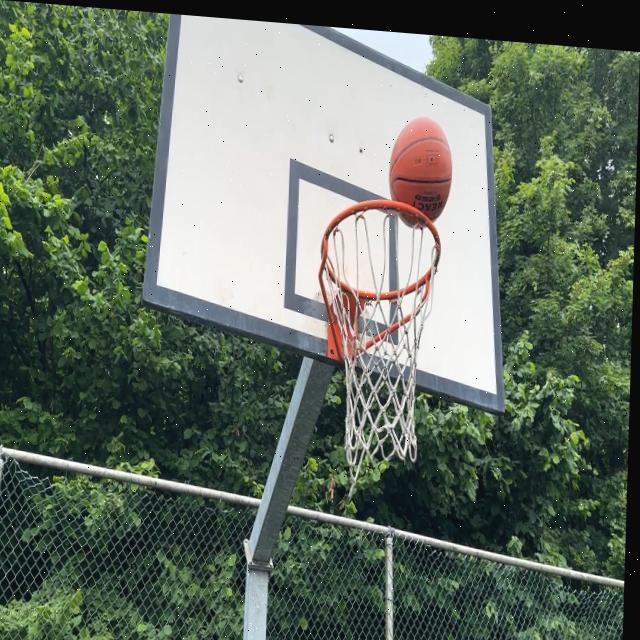rebound_hit: (388, 115, 455, 230)
